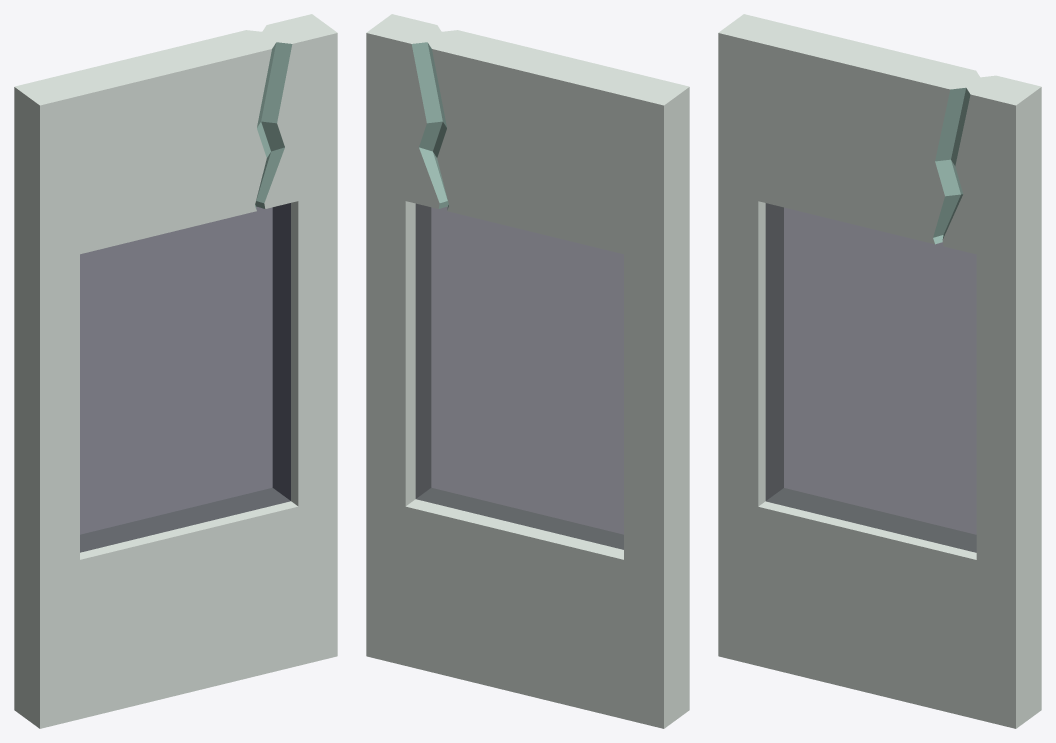
The model's file is CrackedWindow.glb.
3 views of the same model, side by side, from view 1: azimuth 30°, elevation 25°; view 2: azimuth 150°, elevation 25°; view 3: azimuth 330°, elevation 25° (orthographic).
Parts seen in each view (by area): view 1: wall_cracked_window; view 2: wall_cracked_window; view 3: wall_cracked_window.
Part boxes in pixels (x1,y1,x2,y2): wall_cracked_window: [14, 14, 337, 728]; wall_cracked_window: [366, 14, 689, 728]; wall_cracked_window: [718, 14, 1041, 728].
Size of what is drawn, in the model's own units: 2 by 4 by 0.3.
2 materials, 2 textured.
